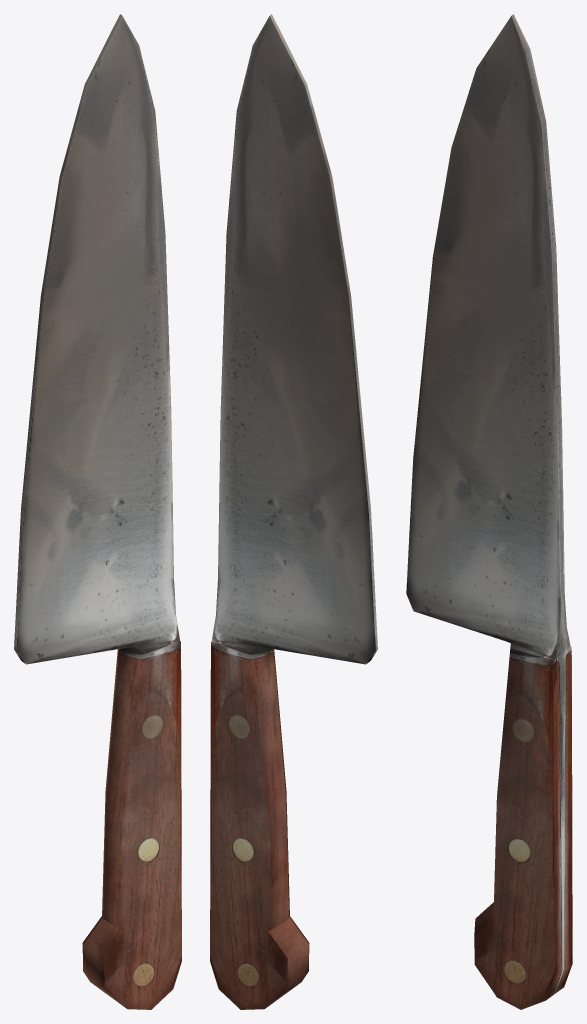
The model's file is SM_PRP_Knife_Generic_01_A.fbx.
3 views of the same model, side by side, from view 1: azimuth 30°, elevation 25°; view 2: azimuth 150°, elevation 25°; view 3: azimuth 330°, elevation 25° (orthographic).
Visible parts, largest first — view 1: SM_PRP_Knife_Generic_01_A; view 2: SM_PRP_Knife_Generic_01_A; view 3: SM_PRP_Knife_Generic_01_A.
Part boxes in pixels (left/top/right/bottom): SM_PRP_Knife_Generic_01_A: left=14, top=14, right=181, bottom=1009; SM_PRP_Knife_Generic_01_A: left=210, top=14, right=377, bottom=1009; SM_PRP_Knife_Generic_01_A: left=406, top=14, right=572, bottom=1009.
Size of the model in its own units: 4.78 by 28.76 by 1.13.
